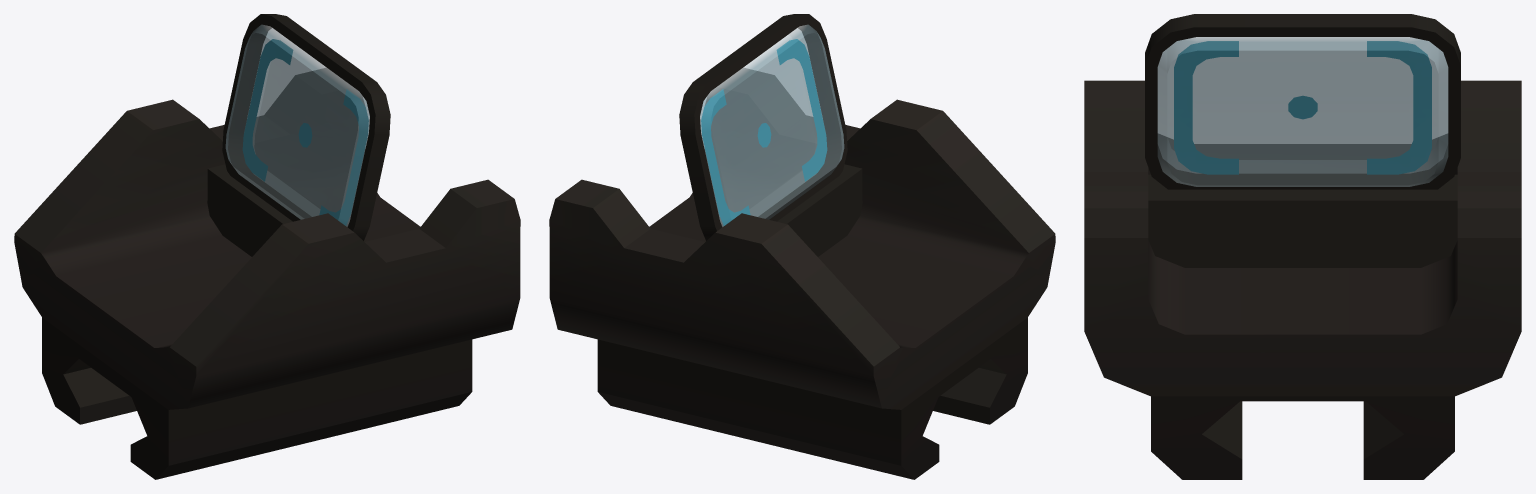
Rendered from Shotgun4_Sight.fbx.
3 renders of one model, left to right at view 1: azimuth 30°, elevation 25°; view 2: azimuth 150°, elevation 25°; view 3: azimuth 270°, elevation 25°, orthographic. The views are drawn at different scales.
Parts seen in each view (by area): view 1: Shotgun4_Sight; view 2: Shotgun4_Sight; view 3: Shotgun4_Sight.
Boxes of the visible parts, x1,y1,x2,y2 form: Shotgun4_Sight: (14, 14, 520, 479); Shotgun4_Sight: (549, 14, 1055, 479); Shotgun4_Sight: (1084, 14, 1521, 479).
Bounding box in the file's own units: 5.82 × 5.88 × 5.65.
